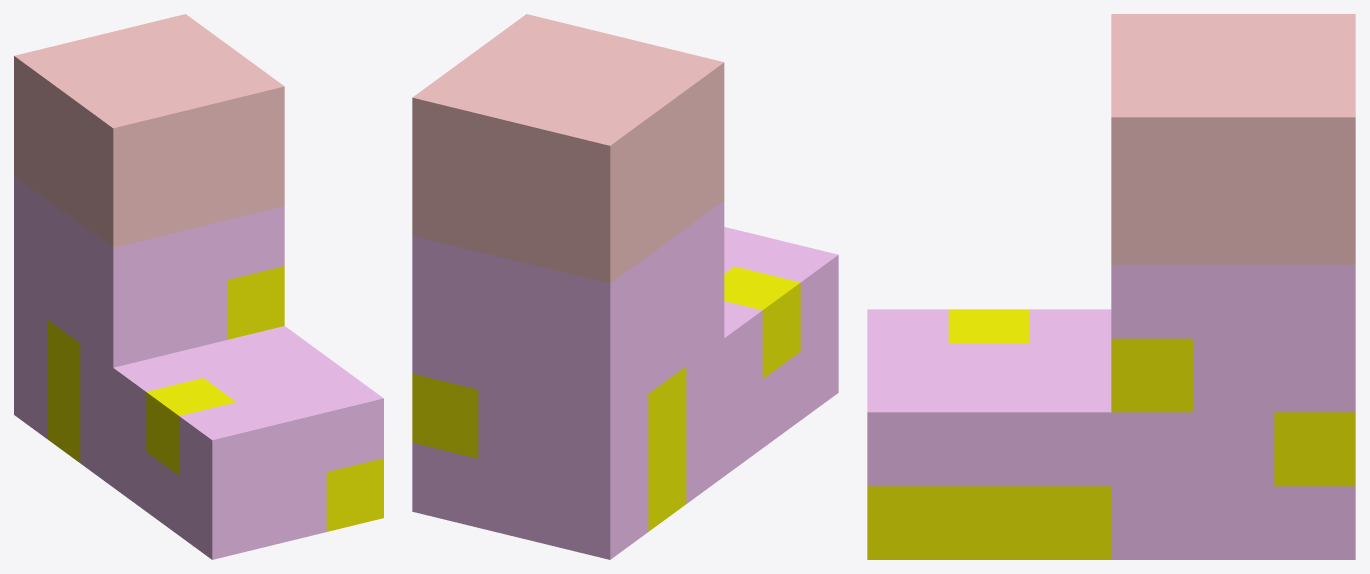
Rendered from footJSON.obj.
The picture shows the model from 3 angles, left to right: view 1: azimuth 30°, elevation 25°; view 2: azimuth 150°, elevation 25°; view 3: azimuth 270°, elevation 25°; orthographic projection. The views are drawn at different scales.
Bounding box in the file's own units: 0.3 × 0.6 × 0.6.
